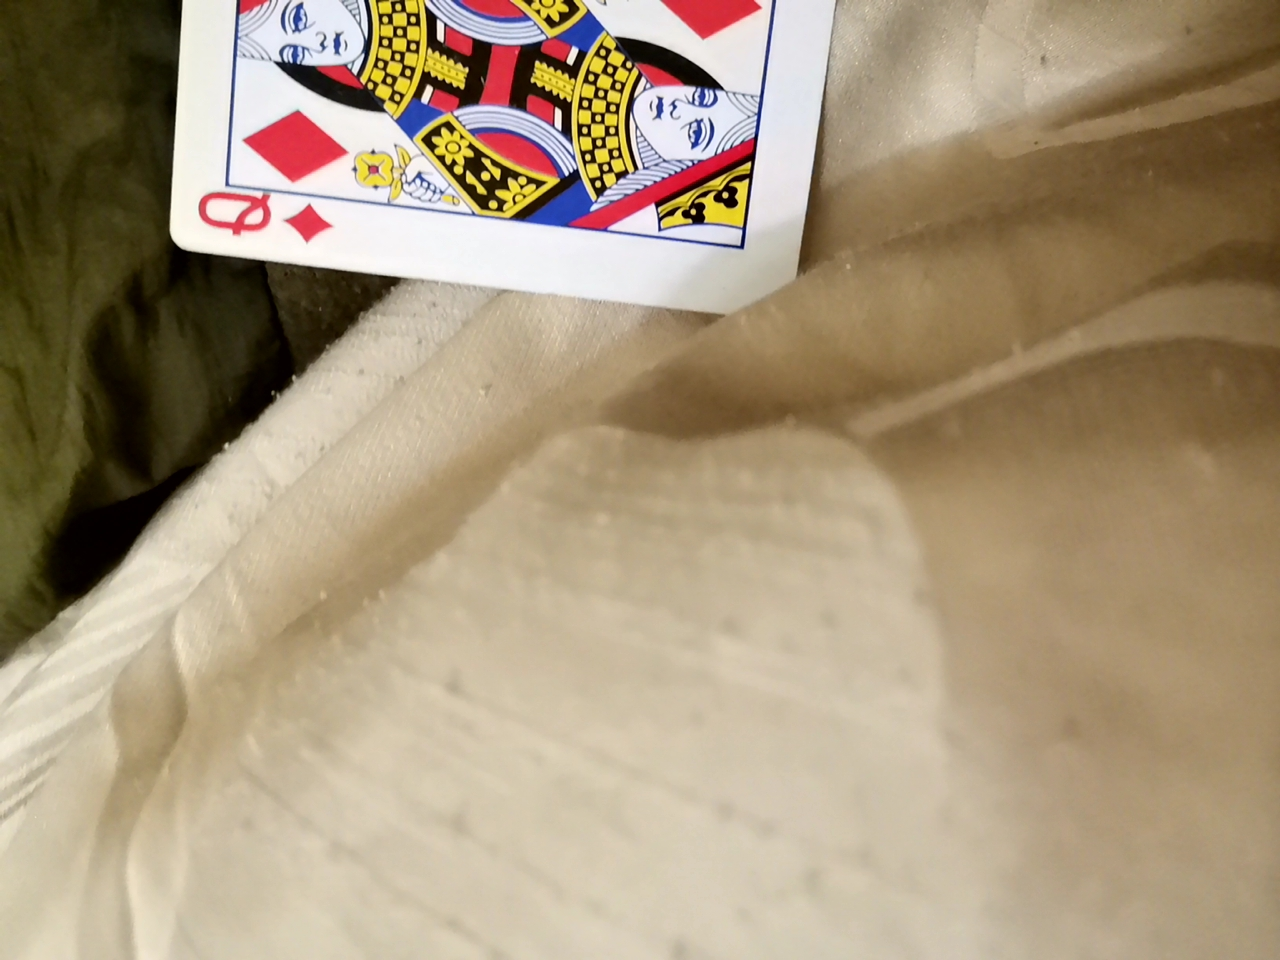fk q: (144, 0, 849, 347)
